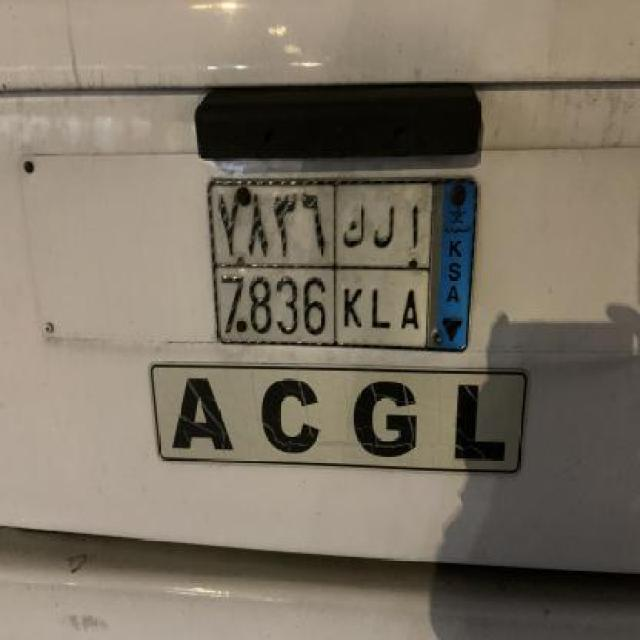license_plate: (204, 173, 482, 358)
